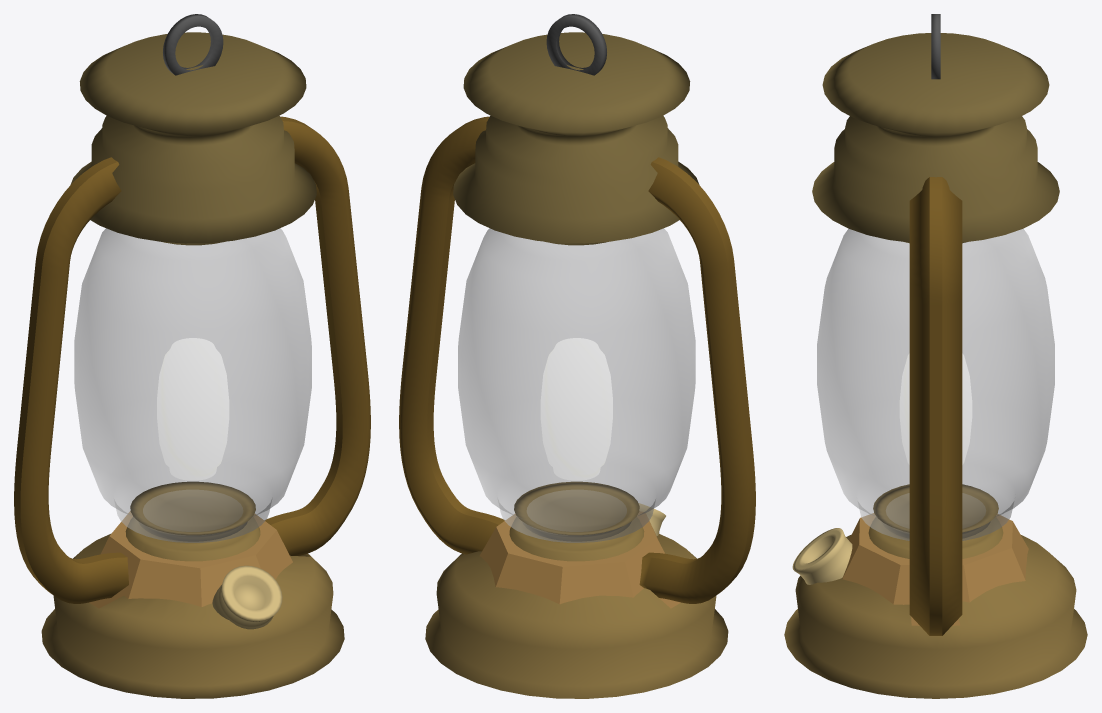
The model's file is rantan.fbx.
3 views of the same model, side by side, from view 1: azimuth 30°, elevation 25°; view 2: azimuth 150°, elevation 25°; view 3: azimuth 270°, elevation 25° (orthographic).
Visible parts, largest first — view 1: 円柱.007, 円柱.001, 円柱.000; view 2: 円柱.007, 円柱.001, 円柱.000; view 3: 円柱.007, 円柱.001, 円柱.000.
Part boxes in pixels (x1,y1,x2,y2): 円柱.007: (14,14,370,698); 円柱.001: (74,228,311,542); 円柱.000: (157,338,229,480); 円柱.007: (399,14,755,698); 円柱.001: (458,228,695,542); 円柱.000: (540,338,612,480); 円柱.007: (784,14,1087,698); 円柱.001: (817,229,1054,540); 円柱.000: (899,353,972,464).
Bounding box in the file's own units: 50.82 × 86.57 × 38.14.
